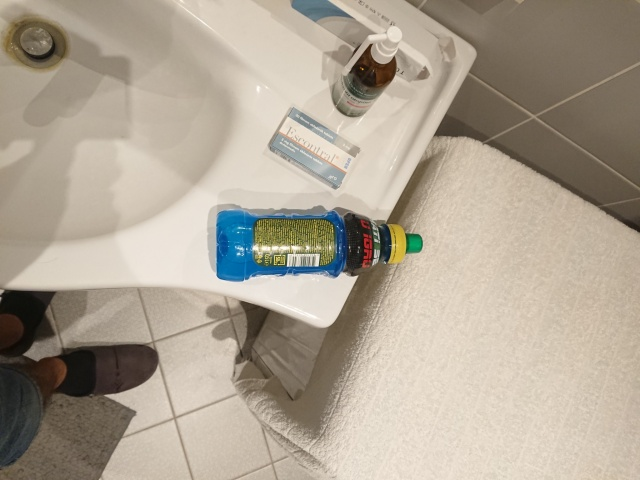Vindi Iso Sport Forest Strawberries 500mL: (213, 209, 425, 282)
